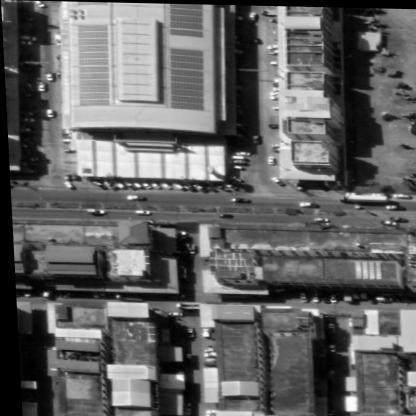solar-pv-panel: (77, 25, 108, 106), (169, 48, 203, 110), (169, 3, 203, 37), (351, 260, 378, 277)
